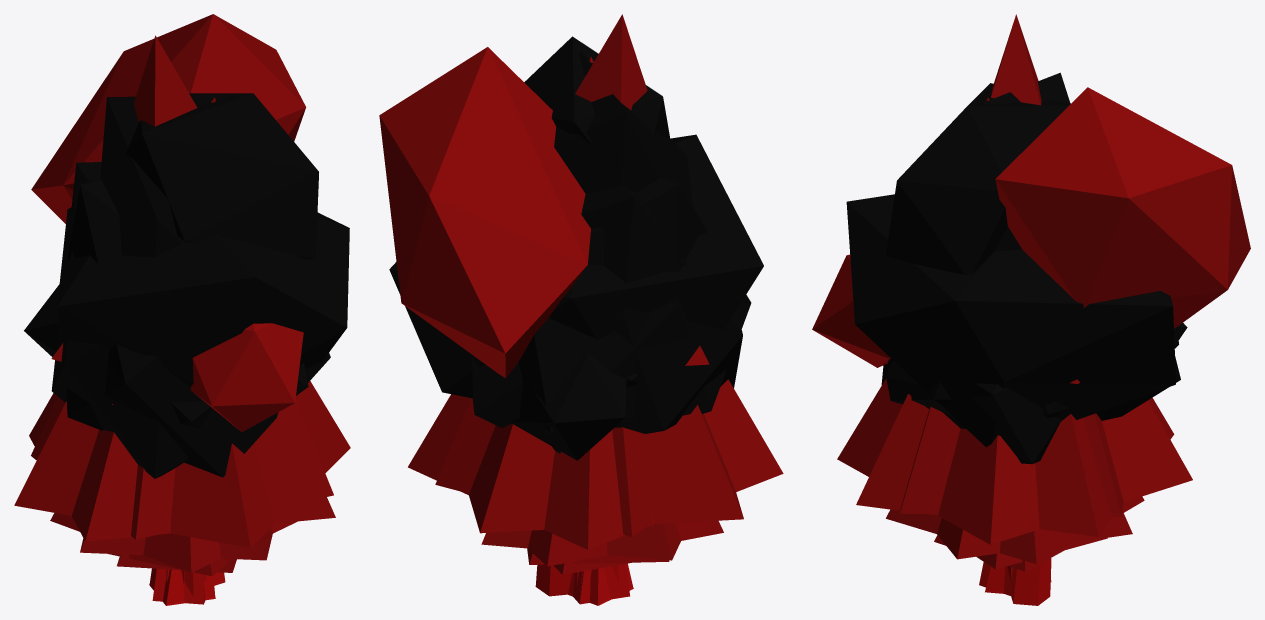
File: trees.glb
The picture shows the model from 3 angles, left to right: view 1: azimuth 30°, elevation 25°; view 2: azimuth 150°, elevation 25°; view 3: azimuth 270°, elevation 25°; orthographic projection. The views are drawn at different scales.
Visible parts, largest first — view 1: tree-0, tree-4, tree-14, tree-9, tree-12, tree-7, tree-6, tree-11, tree-13, tree-10, tree-8, tree-5 (+1 smaller); view 2: tree-0, tree-4, tree-7, tree-14, tree-12, tree-9, tree-11, tree-6, tree-13, tree-10, tree-2; view 3: tree-0, tree-4, tree-14, tree-12, tree-11, tree-8, tree-10, tree-7, tree-13, tree-9, tree-6, tree-2.
Boxes of the visible parts, x1,y1,x2,y2 form: tree-0: [24, 14, 318, 585]; tree-4: [57, 207, 349, 604]; tree-14: [14, 97, 350, 595]; tree-9: [66, 179, 330, 603]; tree-12: [29, 393, 335, 582]; tree-7: [51, 162, 308, 604]; tree-6: [100, 95, 229, 605]; tree-11: [31, 35, 333, 539]; tree-13: [50, 513, 297, 583]; tree-10: [80, 528, 272, 560]; tree-8: [57, 322, 212, 428]; tree-5: [117, 554, 236, 572]; tree-0: [379, 36, 670, 596]; tree-4: [389, 134, 763, 604]; tree-7: [471, 185, 742, 603]; tree-14: [469, 56, 743, 584]; tree-12: [408, 379, 783, 549]; tree-9: [518, 177, 751, 603]; tree-11: [435, 14, 652, 536]; tree-6: [554, 51, 693, 605]; tree-13: [481, 523, 680, 560]; tree-10: [527, 520, 723, 566]; tree-2: [527, 548, 669, 564]; tree-0: [812, 83, 1250, 605]; tree-4: [846, 194, 1175, 587]; tree-14: [837, 97, 1192, 582]; tree-12: [856, 379, 1174, 567]; tree-11: [900, 14, 1123, 517]; tree-8: [925, 383, 1061, 464]; tree-10: [886, 496, 1144, 564]; tree-7: [885, 356, 1180, 595]; tree-13: [937, 511, 1132, 559]; tree-9: [881, 226, 1178, 591]; tree-6: [982, 72, 1069, 593]; tree-2: [976, 538, 1107, 569].
Size of the model in its own units: 0.5797 by 1 by 0.7143.
